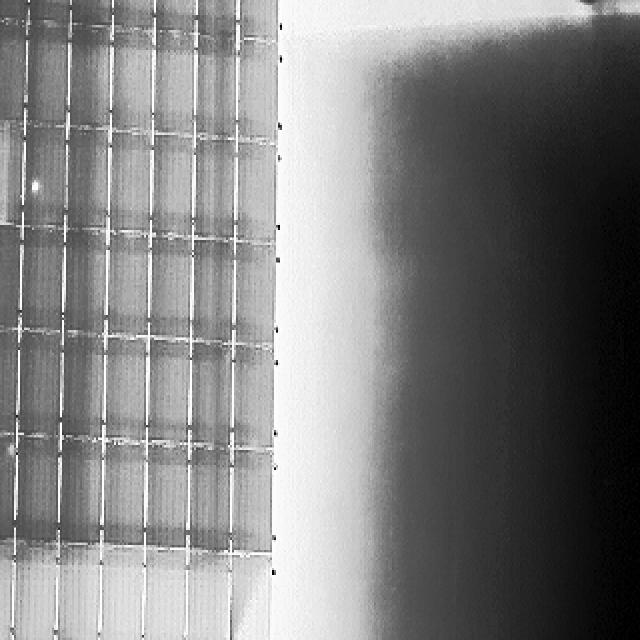Hotspots: (26, 172, 44, 201)
PV-modules: (150, 343, 200, 449), (19, 336, 67, 444), (23, 228, 71, 335), (229, 242, 277, 348), (60, 230, 106, 338), (228, 347, 275, 452), (98, 436, 144, 543), (193, 29, 239, 134), (228, 443, 273, 550), (57, 441, 101, 548), (142, 444, 187, 548), (106, 234, 150, 340), (188, 347, 232, 453), (67, 20, 111, 126), (60, 339, 104, 445), (189, 446, 233, 552), (191, 136, 236, 239), (64, 126, 109, 229), (18, 440, 62, 545), (26, 23, 70, 128), (104, 336, 148, 440), (154, 30, 197, 136), (239, 40, 283, 143), (24, 124, 68, 227), (190, 241, 233, 346), (94, 542, 140, 640), (108, 135, 152, 237), (10, 540, 54, 640), (238, 140, 280, 244), (155, 134, 197, 238), (110, 29, 152, 132), (54, 542, 98, 640), (154, 238, 195, 342), (140, 547, 184, 640), (184, 552, 230, 640), (226, 550, 268, 640), (0, 122, 24, 228), (0, 18, 24, 120), (0, 225, 20, 330), (0, 325, 18, 430), (240, 0, 284, 40), (0, 435, 16, 540), (195, 0, 238, 34), (112, 0, 156, 29), (154, 0, 196, 30), (70, 0, 111, 27), (0, 537, 10, 640), (27, 0, 71, 22), (0, 0, 30, 18)
